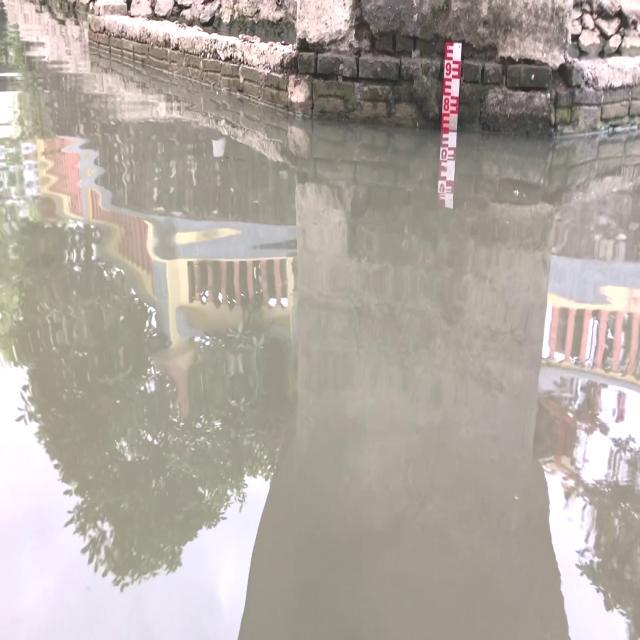ruler: (434, 35, 468, 139)
value: (442, 59, 452, 79), (441, 94, 451, 114)
